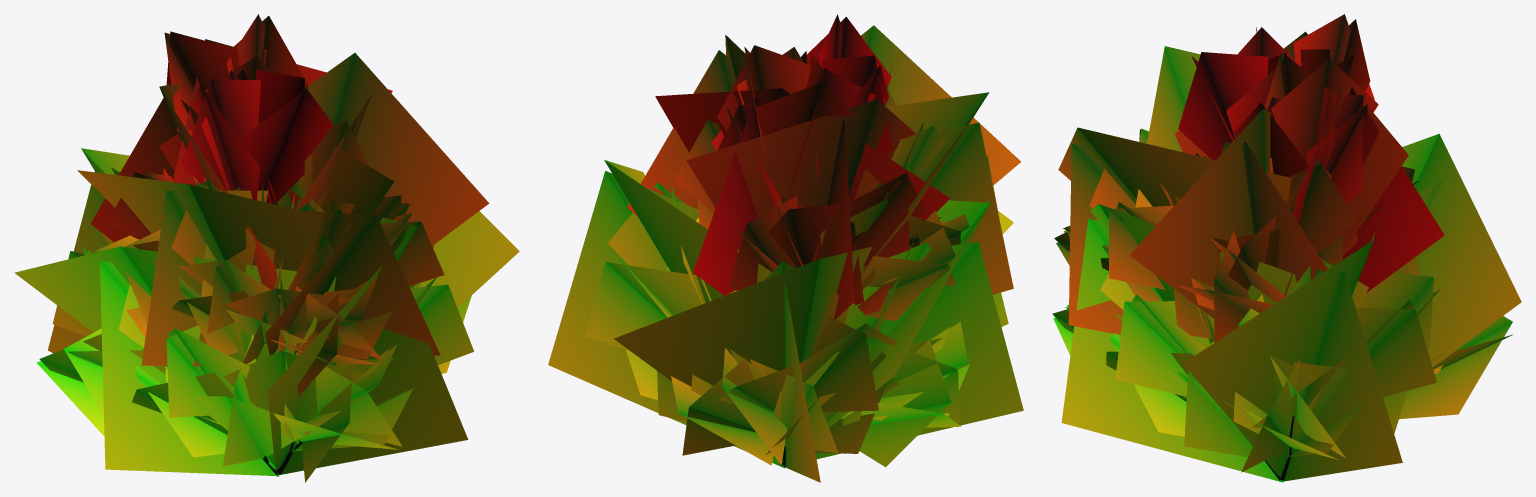
File: linden_tree_3.FBX
3 views of the same model, side by side, from view 1: azimuth 30°, elevation 25°; view 2: azimuth 150°, elevation 25°; view 3: azimuth 270°, elevation 25° (orthographic).
Parts seen in each view (by area): view 1: linden_leaves_shadow, linden_leaves_lod_0; view 2: linden_leaves_shadow, linden_leaves_lod_0; view 3: linden_leaves_shadow, linden_leaves_lod_0.
Boxes of the visible parts, x1=… form: linden_leaves_shadow: x1=14, y1=39, x2=519, y2=476; linden_leaves_lod_0: x1=37, y1=14, x2=473, y2=482; linden_leaves_shadow: x1=548, y1=25, x2=1023, y2=482; linden_leaves_lod_0: x1=585, y1=14, x2=1008, y2=467; linden_leaves_shadow: x1=1058, y1=31, x2=1521, y2=482; linden_leaves_lod_0: x1=1052, y1=14, x2=1513, y2=472.
Size of what is drawn, in the model's own units: 6.16 by 6.46 by 6.31.
